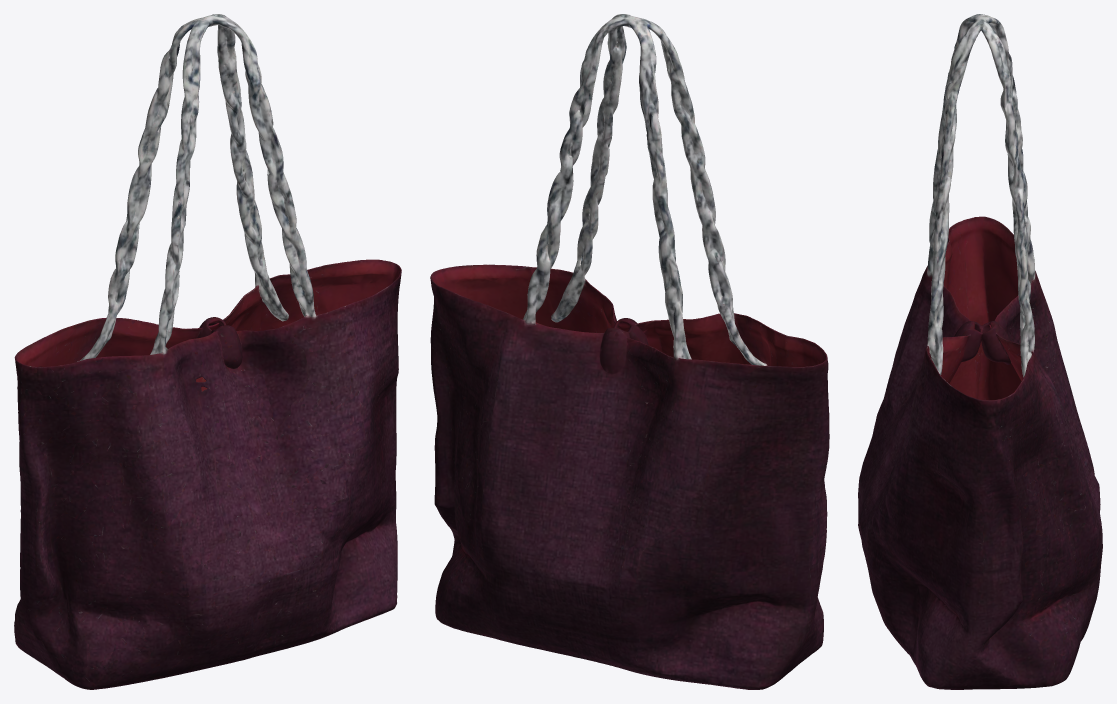
File: tuixach-do-tia.glb
3 renders of one model, left to right at view 1: azimuth 30°, elevation 25°; view 2: azimuth 150°, elevation 25°; view 3: azimuth 270°, elevation 25°, orthographic. The views are drawn at different scales.
Parts seen in each view (by area): view 1: geometry_0; view 2: geometry_0; view 3: geometry_0.
Part boxes in pixels (x1,y1,x2,y2): geometry_0: (14,14,401,689); geometry_0: (430,14,829,689); geometry_0: (858,14,1102,689).
Size of the model in its own units: 0.6566 by 1 by 0.3705.
Materials: 1 (1 with a texture image).
